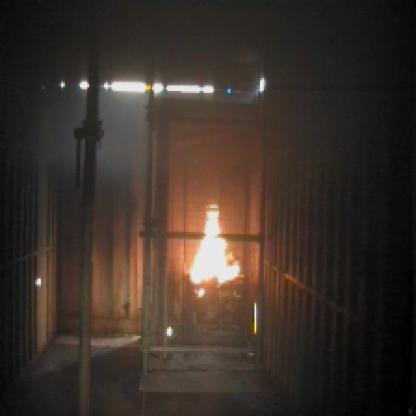Fire: (191, 204, 236, 297)
